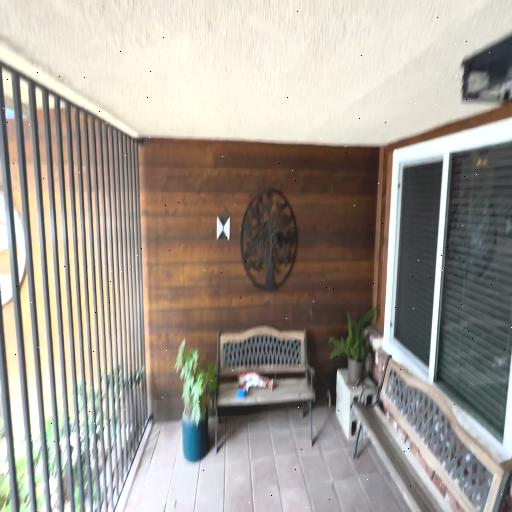target: (217, 218, 230, 240)
